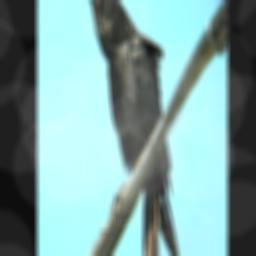Crow: (82, 0, 181, 256)
